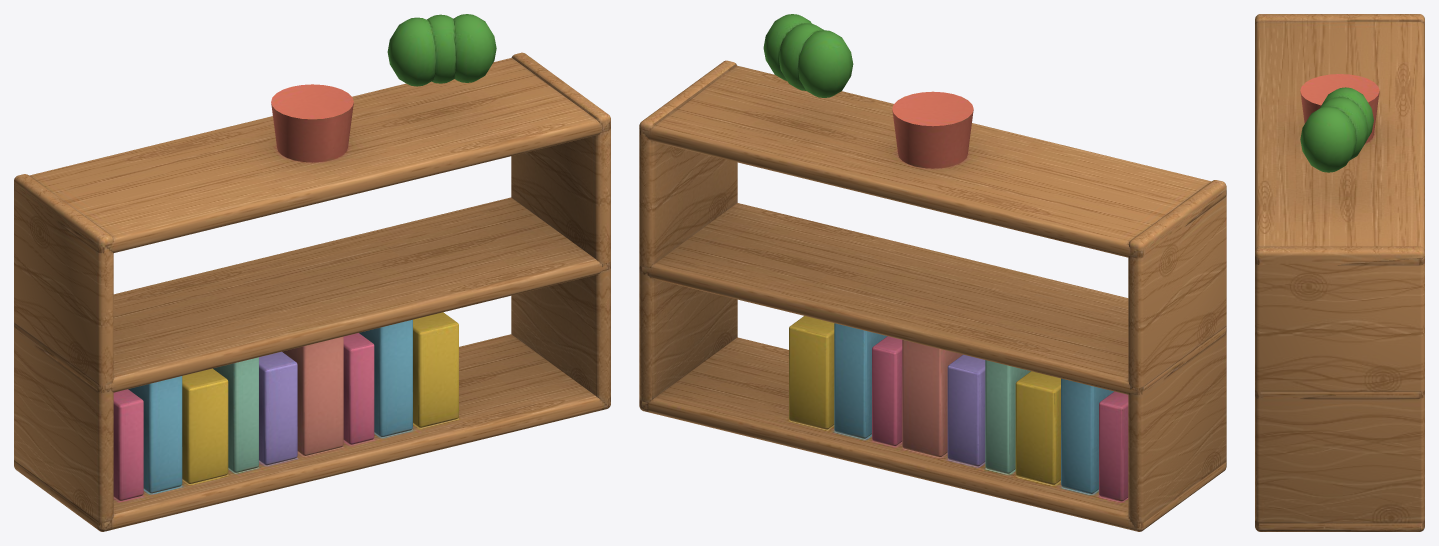
File: bookshelf_low.glb
3 renders of one model, left to right at view 1: azimuth 30°, elevation 25°; view 2: azimuth 150°, elevation 25°; view 3: azimuth 270°, elevation 25°, orthographic. The views are drawn at different scales.
Parts seen in each view (by area): view 1: bookshelf_low; view 2: bookshelf_low; view 3: bookshelf_low.
Part boxes in pixels (<box>): bookshelf_low: <box>14,14,610,531</box>; bookshelf_low: <box>639,14,1226,531</box>; bookshelf_low: <box>1255,14,1424,531</box>.
Bounding box in the file's own units: 0.9997 × 0.7299 × 0.2997.
1 material, 1 textured.
